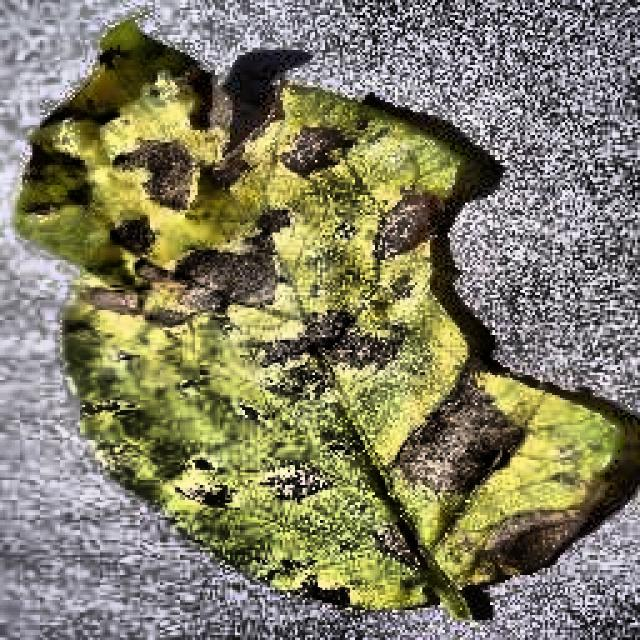Potato_leaf_early_blight: (15, 20, 618, 615)
